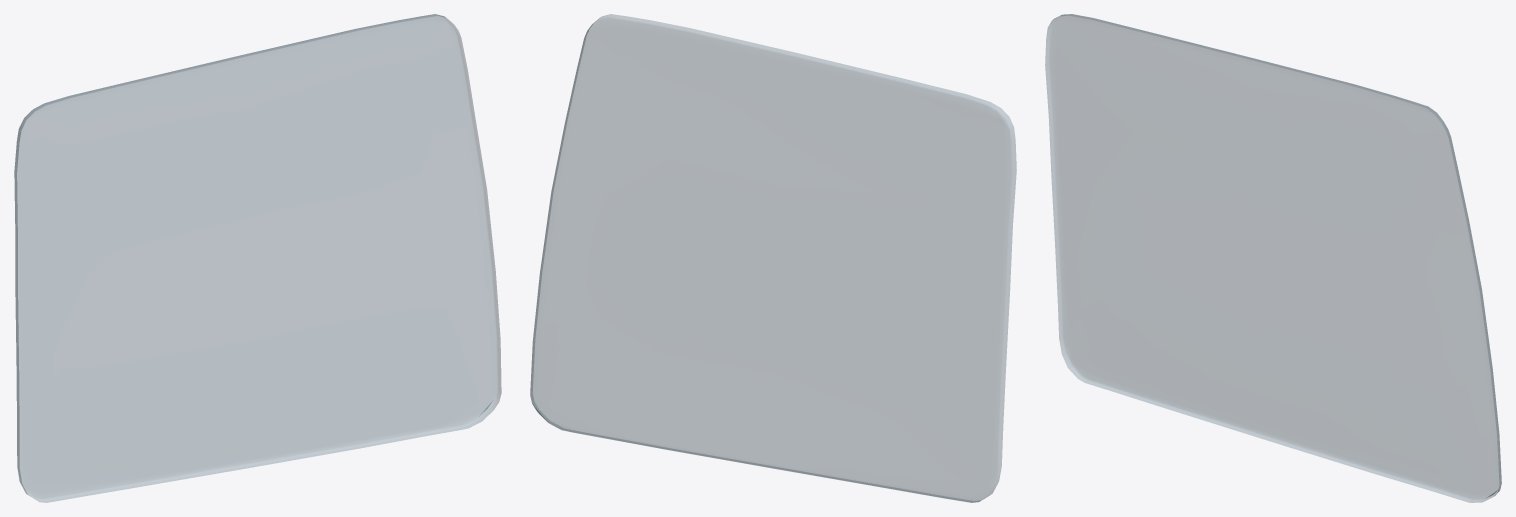
3 views of the same model, side by side, from view 1: azimuth 30°, elevation 25°; view 2: azimuth 150°, elevation 25°; view 3: azimuth 330°, elevation 25° (orthographic). The views are drawn at different scales.
Parts seen in each view (by area): view 1: SM_EuropeanHGV_Door_FL_Glass_Ext1; view 2: SM_EuropeanHGV_Door_FL_Glass_Ext1; view 3: SM_EuropeanHGV_Door_FL_Glass_Ext1.
Boxes of the visible parts, x1,y1,x2,y2 form: SM_EuropeanHGV_Door_FL_Glass_Ext1: [14, 14, 501, 502]; SM_EuropeanHGV_Door_FL_Glass_Ext1: [530, 14, 1016, 502]; SM_EuropeanHGV_Door_FL_Glass_Ext1: [1045, 14, 1501, 502].
Size of the model in its own units: 0.9689 by 0.8218 by 0.0447.
